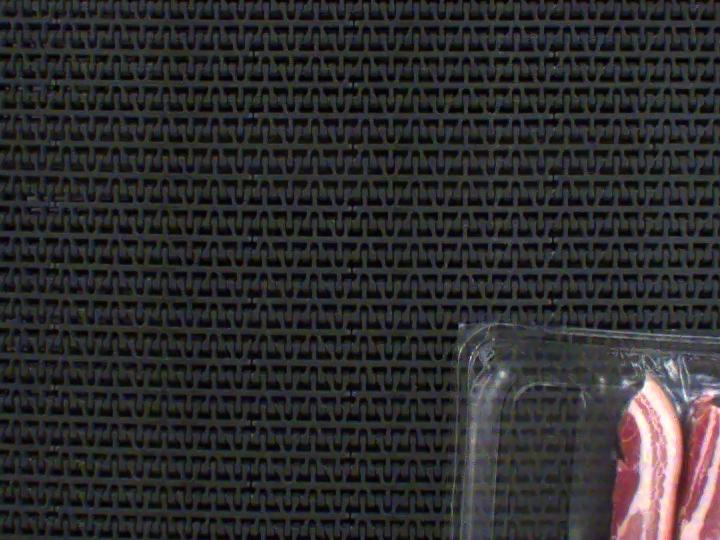unsealed: (565, 342, 720, 540)
